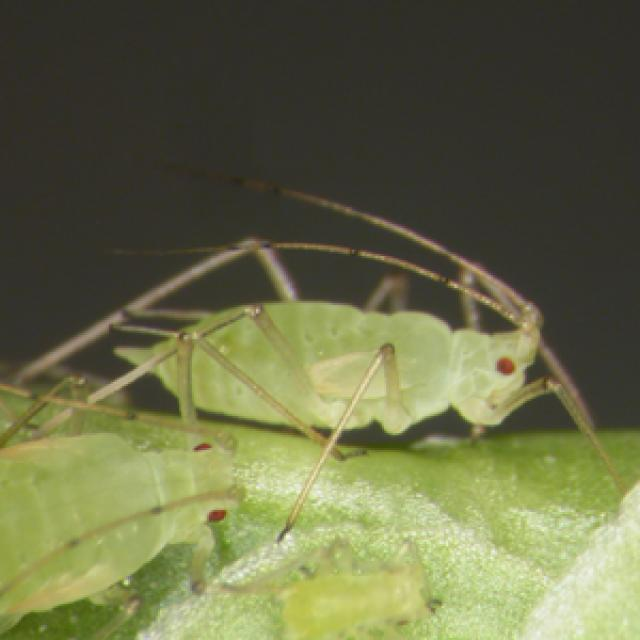Aphid-Grown-: (112, 210, 594, 484)
